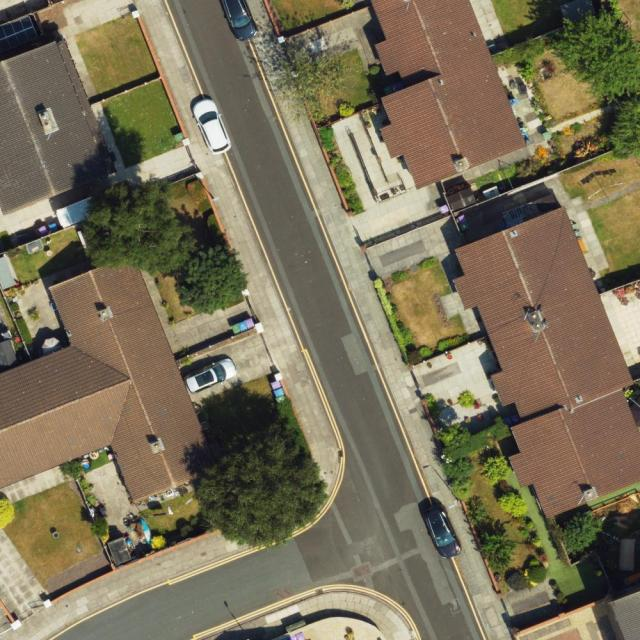roof: (452, 206, 640, 520), (0, 252, 219, 504), (368, 0, 528, 190), (0, 37, 117, 215)
